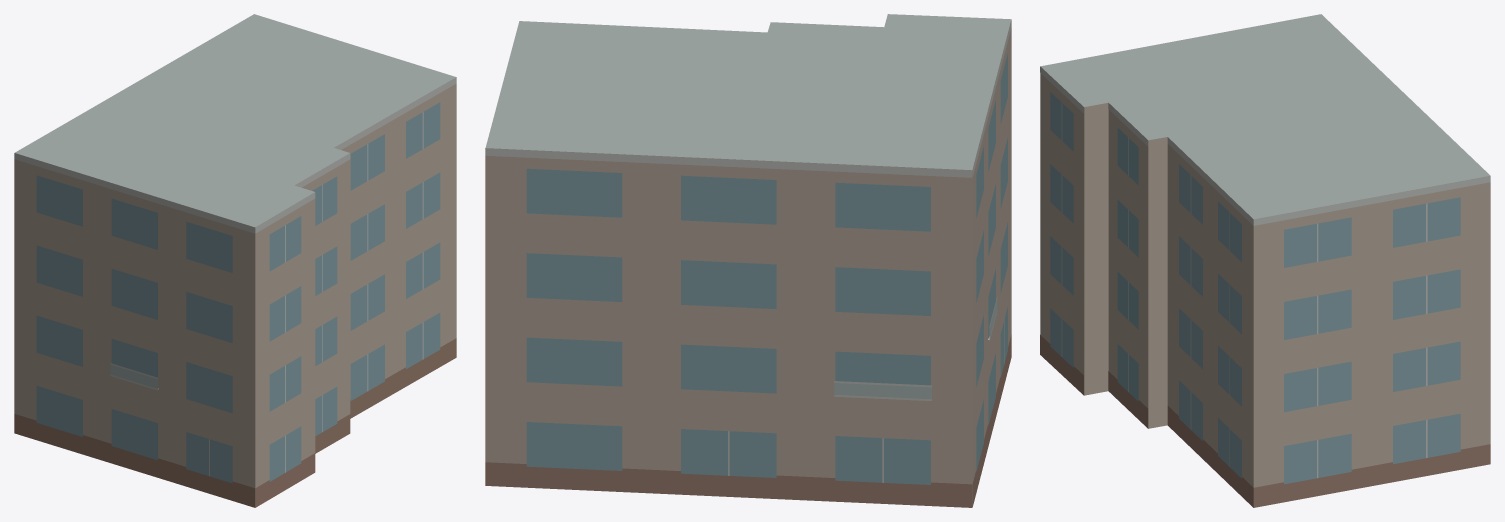
Rendered from survey-upis-32954335.glb.
The picture shows the model from 3 angles, left to right: view 1: azimuth 30°, elevation 25°; view 2: azimuth 150°, elevation 25°; view 3: azimuth 270°, elevation 25°; orthographic projection. The views are drawn at different scales.
Parts seen in each view (by area): view 1: survey-upis-32954335.tmp; view 2: survey-upis-32954335.tmp; view 3: survey-upis-32954335.tmp.
Boxes of the visible parts, x1,y1,x2,y2 form: survey-upis-32954335.tmp: (14,14,456,507); survey-upis-32954335.tmp: (485,14,1011,507); survey-upis-32954335.tmp: (1040,14,1490,507).
Bounding box in the file's own units: 16.5 × 10.8 × 15.29.
